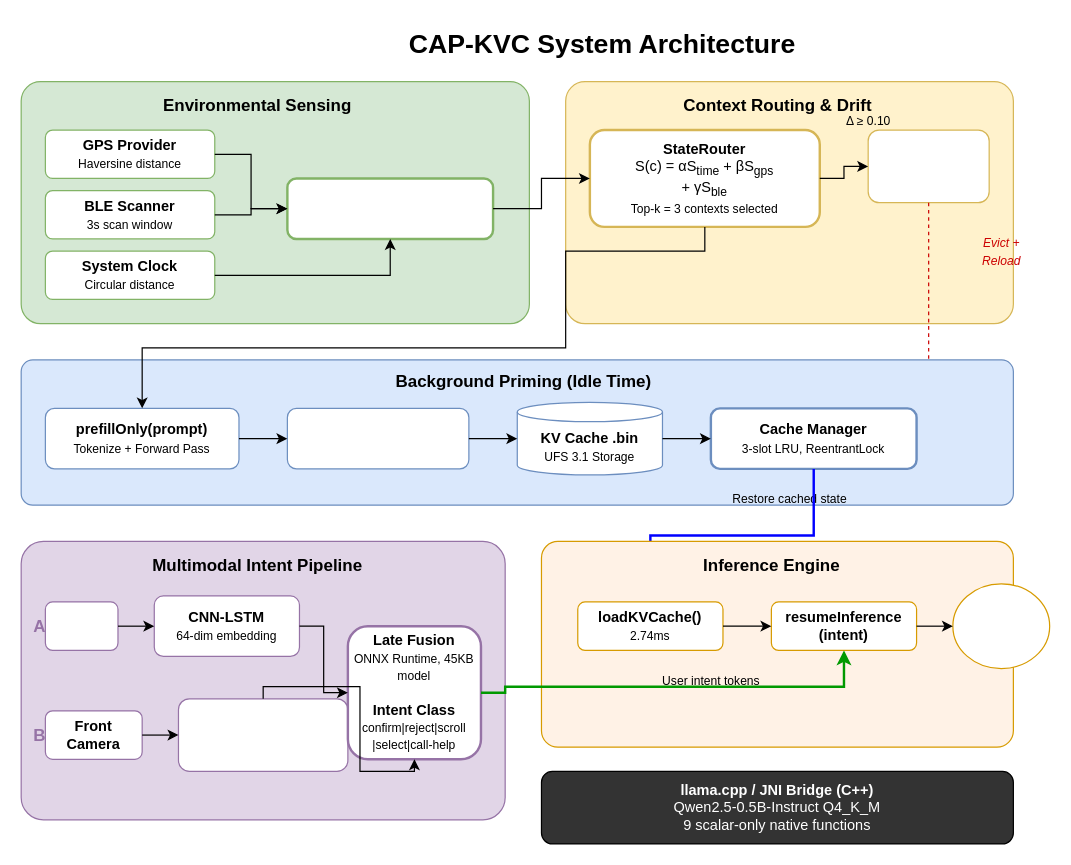
Image size: 1071x865. Some labels were removed from this diagram. Here are the shapes that lost their labels. From the top down, the centre of each, then its label:
point 928,166: DriftDetector WorkManager 15min cycle
point 390,208: SensorSnapshot (immutable data object)
point 377,438: saveKVCache(path) Serialize KV tensors
point 81,625: sEMG 16-ch
point 1001,626: Generated AAC Response
point 262,734: MediaPipe Face Mesh 5-dim gaze, 468 landmarks
